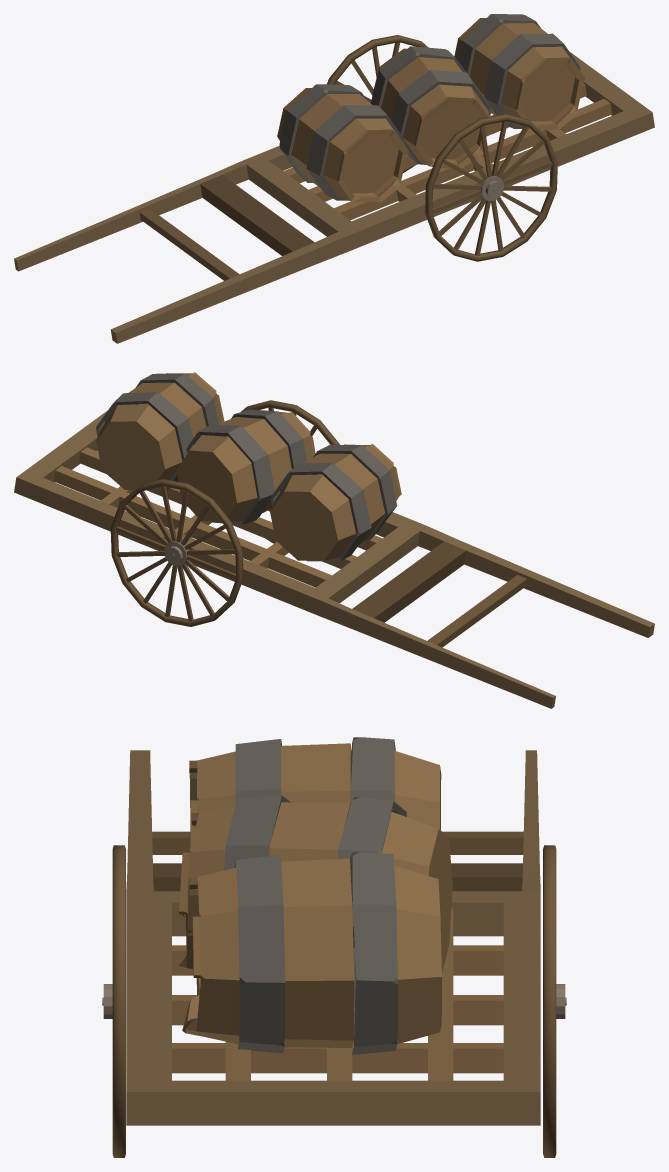
Rendered from Wooden Cart_3.fbx.
3 views of the same model, one above another, from view 1: azimuth 30°, elevation 25°; view 2: azimuth 150°, elevation 25°; view 3: azimuth 270°, elevation 25° (orthographic). The views are drawn at different scales.
Parts seen in each view (by area): view 1: Wooden Cart_3; view 2: Wooden Cart_3; view 3: Wooden Cart_3.
Boxes of the visible parts, bbox=[...] form: Wooden Cart_3: bbox=[14, 14, 654, 343]; Wooden Cart_3: bbox=[14, 372, 654, 708]; Wooden Cart_3: bbox=[102, 737, 566, 1157].
Bounding box in the file's own units: 470 × 149 × 176.
